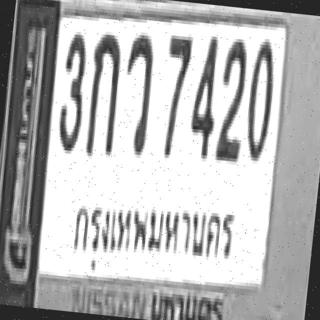A01: (82, 30, 123, 154)
A37: (118, 31, 156, 155)
N00: (242, 37, 276, 158)
N02: (213, 34, 249, 158)
N03: (54, 30, 89, 152)
N04: (186, 32, 222, 156)
N07: (157, 32, 192, 156)
P04: (65, 185, 242, 285)
